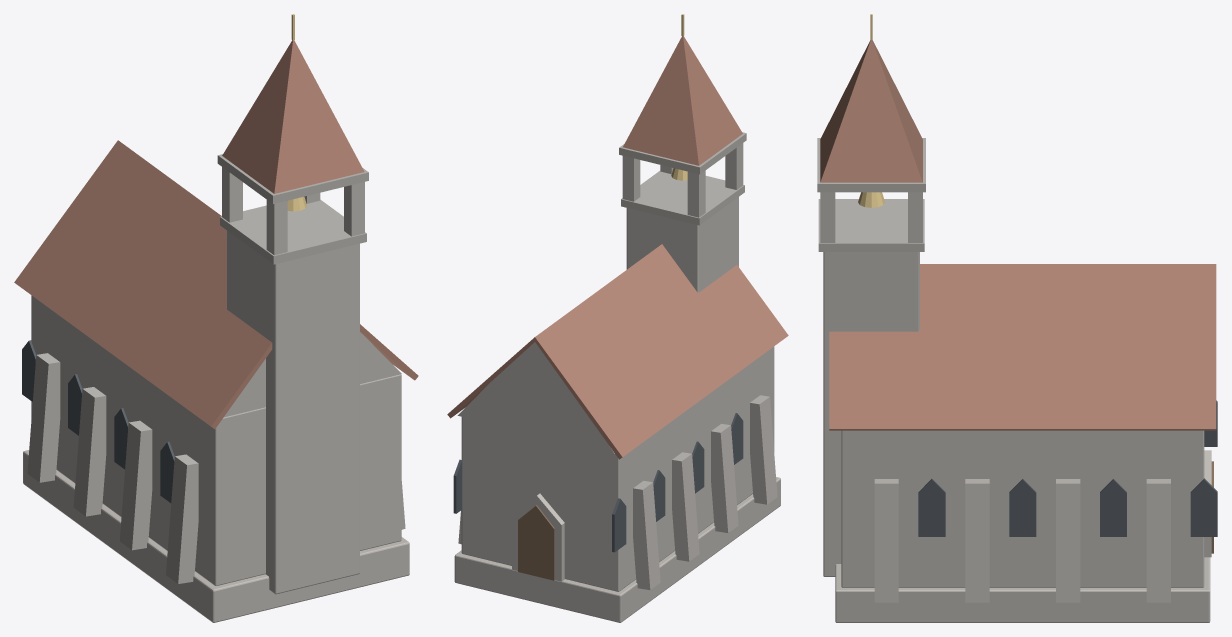
The model's file is chapel.glb.
The picture shows the model from 3 angles, left to right: view 1: azimuth 30°, elevation 25°; view 2: azimuth 150°, elevation 25°; view 3: azimuth 270°, elevation 25°; orthographic projection. The views are drawn at different scales.
Parts seen in each view (by area): view 1: chapel; view 2: chapel; view 3: chapel.
Boxes of the visible parts, x1,y1,x2,y2 form: chapel: (14, 14, 418, 622); chapel: (447, 14, 788, 622); chapel: (817, 14, 1217, 622).
Size of the model in its own units: 8.53 by 20.5 by 13.25.
